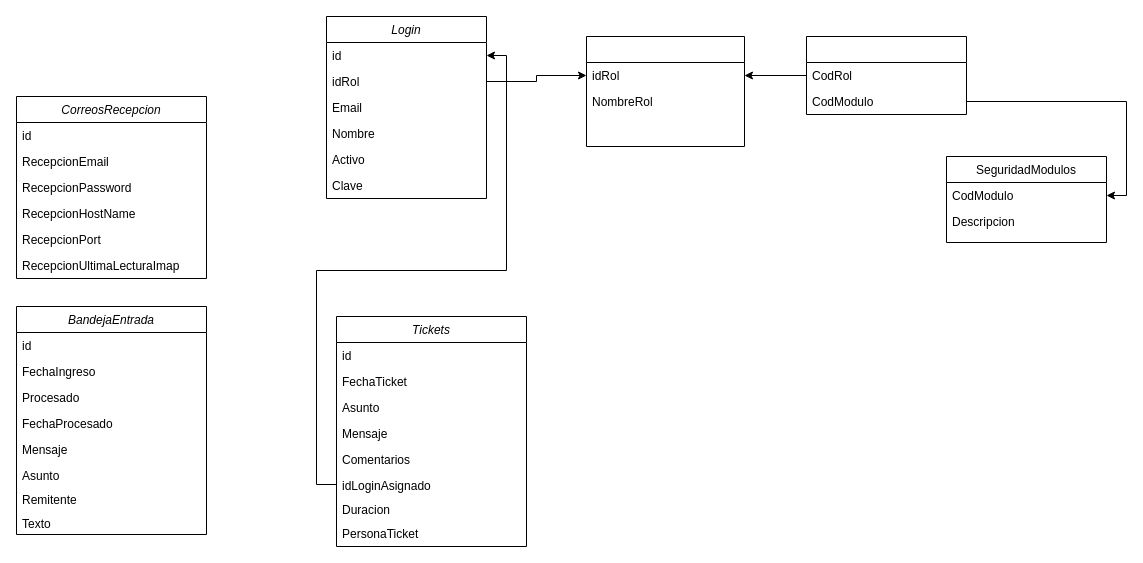
Image size: 1143x563. Some labels were removed from this diagram. Each missing label, with the box of its shape:
Roles: (586, 36, 744, 146)
SeguridadRolesModulos: (806, 36, 966, 114)
